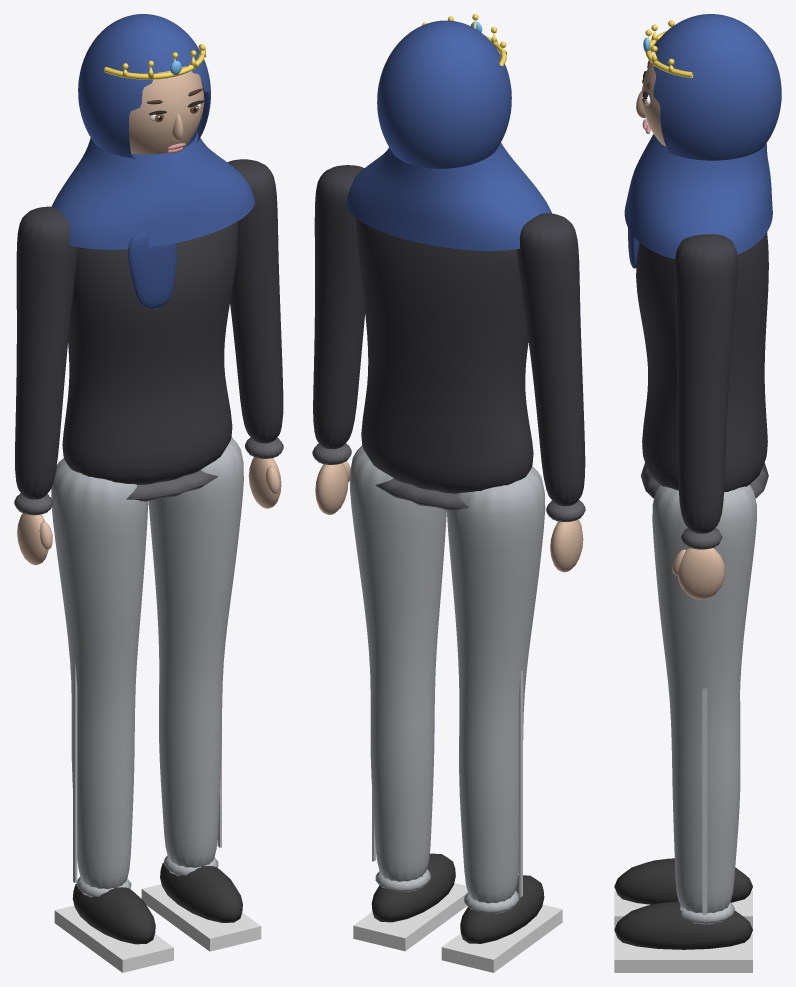
Rendered from marwa.glb.
The picture shows the model from 3 angles, left to right: view 1: azimuth 30°, elevation 25°; view 2: azimuth 150°, elevation 25°; view 3: azimuth 270°, elevation 25°; orthographic projection.
Visible parts, largest first — view 1: Kropp, BenH, BenV, ArmH, ArmV; view 2: Kropp, BenH, BenV, ArmH, ArmV; view 3: Kropp, BenV, ArmV, BenH.
Part boxes in pixels (x1,y1,x2,y2): Kropp: (52,14,254,501); BenH: (51,458,173,972); BenV: (141,437,261,951); ArmH: (14,206,77,565); ArmV: (227,159,283,508); Kropp: (345,14,551,510); BenH: (441,466,562,972); BenV: (350,445,467,951); ArmH: (516,213,585,572); ArmV: (312,165,365,514); Kropp: (624,14,781,498); BenV: (614,484,756,972); ArmV: (672,234,737,599); BenH: (614,701,752,928).
Bounding box in the file's own units: 0.5147 × 1.68 × 0.2774.
